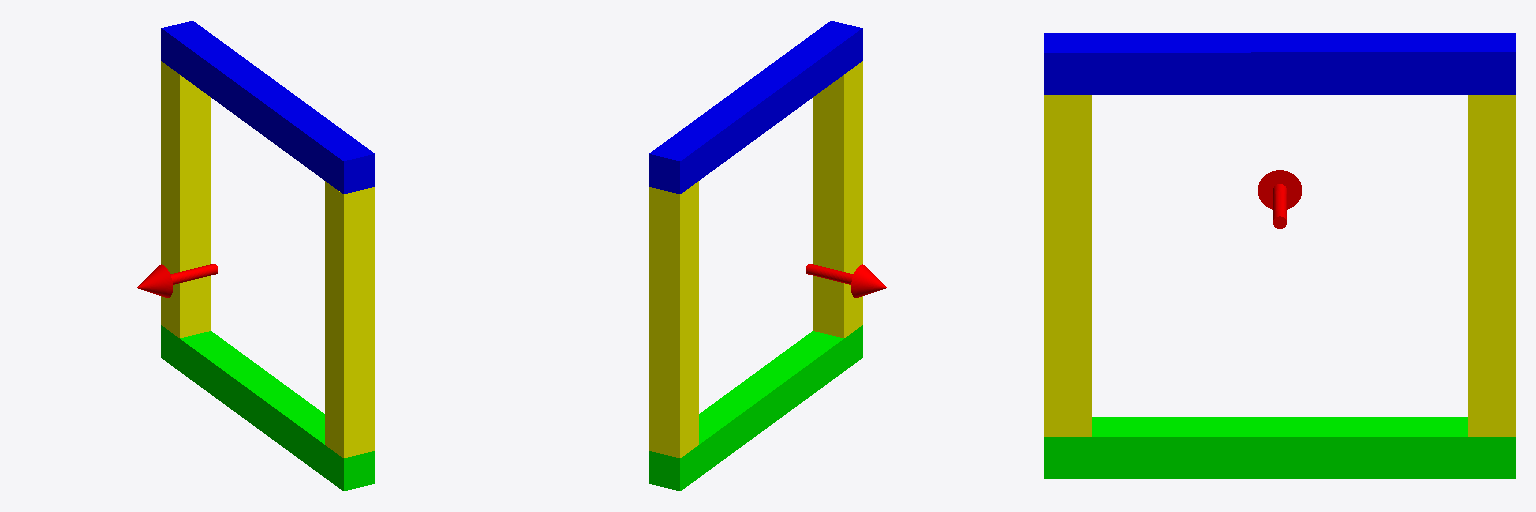
URDF robot description (test.urdf):
<?xml version="1.0" ?>
<robot name="test.urdf">


  <material name="Red">
    <color rgba="1.0 0 0 1.0"/>
  </material>

  <material name="Green">
    <color rgba="0 1.0 0 1.0"/>
  </material>

  <material name="Blue">
    <color rgba="0 0 1.0 1.0"/>
  </material>

  <material name="Yellow">
    <color rgba="1.0 1.0 0 1.0"/>
  </material>



  <link name="bottomBar">
    <visual>
      <origin rpy="1.5707 1.5707 0" xyz="0 0 -0.45"/>
      <geometry>
        <box size=".1 .1 1" />
      </geometry>
      <material name="Green"/>
    </visual>

    <collision>
      <origin rpy="1.5707 1.5707 0" xyz="0 0 -0.45"/>
      <geometry>
        <box size=".1 .1 1" />
      </geometry>
    </collision>

    <inertial>
      <mass value="10"/>
      <inertia ixx="0.4" ixy="0.0" ixz="0.0" iyy="0.4" iyz="0.0" izz="0.2"/>
    </inertial>

  </link>

  <link name="topBar">
    <visual>
      <origin rpy="1.5707 1.5707 0" xyz="0 0 0.45"/>
      <geometry>
        <box size=".1 .1 1" />
      </geometry>
      <material name="Blue"/>
    </visual>

    <collision>
      <origin rpy="1.5707 1.5707 0" xyz="0 0 0.45"/>
      <geometry>
        <box size=".1 .1 1" />
      </geometry>
    </collision>

    <inertial>
      <mass value="10"/>
      <inertia ixx="0.4" ixy="0.0" ixz="0.0" iyy="0.4" iyz="0.0" izz="0.2"/>
    </inertial>

  </link>

  <link name="leftBar">
    <visual>
      <origin rpy="0 0 0" xyz="0 -0.45 0"/>
      <geometry>
        <box size=".1 .1 0.8" />
      </geometry>
      <material name="Yellow"/>
    </visual>

    <collision>
      <origin rpy="0 0 0" xyz="0 -0.45 0"/>
      <geometry>
        <box size=".1 .1 1" />
      </geometry>
    </collision>

    <inertial>
      <mass value="10"/>
      <inertia ixx="0.4" ixy="0.0" ixz="0.0" iyy="0.4" iyz="0.0" izz="0.2"/>
    </inertial>

  </link>

  <link name="rightBar">
    <visual>
      <origin rpy="0 0 0" xyz="0 0.45 0"/>
      <geometry>
        <box size=".1 .1 0.8" />
      </geometry>
      <material name="Yellow"/>
    </visual>

    <collision>
      <origin rpy="0 0 0" xyz="0 0.45 0"/>
      <geometry>
        <box size=".1 .1 1" />
      </geometry>
    </collision>

    <inertial>
      <mass value="10"/>
      <inertia ixx="0.4" ixy="0.0" ixz="0.0" iyy="0.4" iyz="0.0" izz="0.2"/>
    </inertial>

  </link>

  <link name="arrow">
    <visual>
      <origin rpy="0 -1.5707 0" xyz="-0.4 0 0"/>
      <geometry>
        <mesh filename="arrow.stl" scale="0.001 0.001 0.001"/>
      </geometry>
      <material name="Red"/>
    </visual>

    <inertial>
      <mass value="10"/>
      <inertia ixx="0.4" ixy="0.0" ixz="0.0" iyy="0.4" iyz="0.0" izz="0.2"/>
    </inertial>

  </link>

  <joint name="bottom-left" type="fixed">
    <parent link="bottomBar"/>
    <child link="leftBar"/>
  </joint>

  <joint name="left-top" type="fixed">
    <parent link="leftBar"/>
    <child link="topBar"/>
  </joint>

  <joint name="top-right" type="fixed">
    <parent link="topBar"/>
    <child link="rightBar"/>
  </joint>

  <joint name="arrow-to-bar" type="fixed">
    <parent link="topBar"/>
    <child link="arrow"/>
  </joint>


</robot>

--- Facts derived from the render (not from the file) ---
The picture shows the robot from 3 angles, left to right: view 1: azimuth 30°, elevation 25°; view 2: azimuth 150°, elevation 25°; view 3: azimuth 270°, elevation 25°; orthographic projection.
Model test.urdf with 5 links and 4 joints (4 fixed), rooted at bottomBar, posed all joints at 0.
Links seen in each view (by area): view 1: leftBar, topBar, rightBar, bottomBar, arrow; view 2: rightBar, topBar, leftBar, bottomBar, arrow; view 3: topBar, bottomBar, leftBar, rightBar, arrow.
Boxes of the visible links, x1,y1,x2,y2 form: leftBar: (325,181,374,457); topBar: (161,21,374,193); rightBar: (161,61,210,337); bottomBar: (161,325,374,490); arrow: (137,264,217,297); rightBar: (649,181,698,457); topBar: (649,21,862,193); leftBar: (813,61,862,337); bottomBar: (649,325,862,490); arrow: (806,264,886,297); topBar: (1044,33,1515,94); bottomBar: (1044,417,1515,478); leftBar: (1044,95,1091,436); rightBar: (1468,95,1515,436); arrow: (1258,170,1301,228).
Bounding box of the posed robot: 0.4666 × 1 × 1 m (x, y, z).
Meshes: 1 distinct files referenced, 1 mesh visuals loaded (1 binary STL).